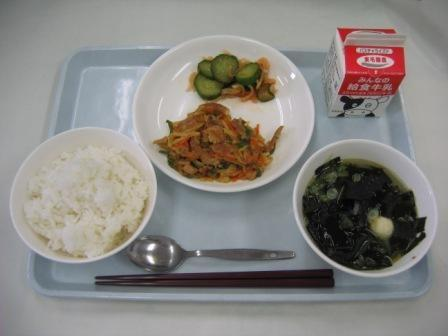Rice: (12, 136, 155, 261)
Salad: (178, 46, 287, 101)
Soups: (293, 140, 431, 279)
vegetable based cooked food: (154, 103, 290, 188)
